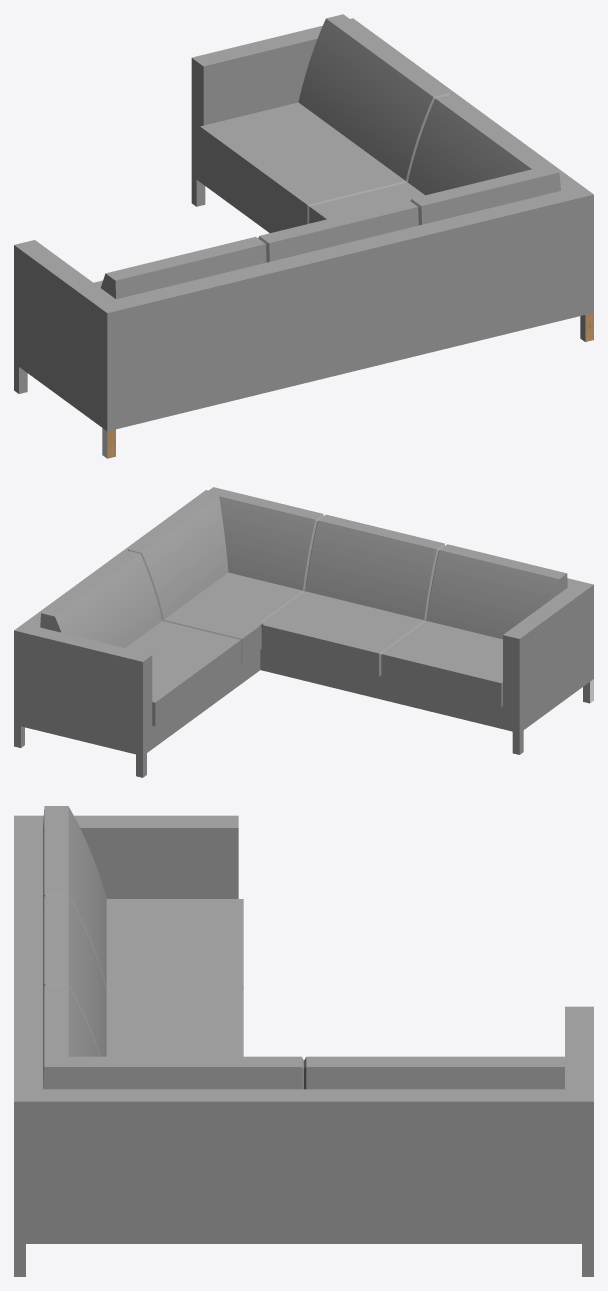
The model's file is karlstad_sofa_4_obj0_object.obj.
The picture shows the model from 3 angles, top to bottom: view 1: azimuth 30°, elevation 25°; view 2: azimuth 150°, elevation 25°; view 3: azimuth 270°, elevation 25°; orthographic projection. The views are drawn at different scales.
Visible parts, largest first — view 1: Mesh1 Group1 Model; view 2: Mesh1 Group1 Model; view 3: Mesh1 Group1 Model.
Boxes of the visible parts, x1,y1,x2,y2 form: Mesh1 Group1 Model: [14, 14, 593, 458]; Mesh1 Group1 Model: [14, 487, 593, 777]; Mesh1 Group1 Model: [14, 806, 593, 1276].
Size of the model in its own units: 280 by 90 by 240.
